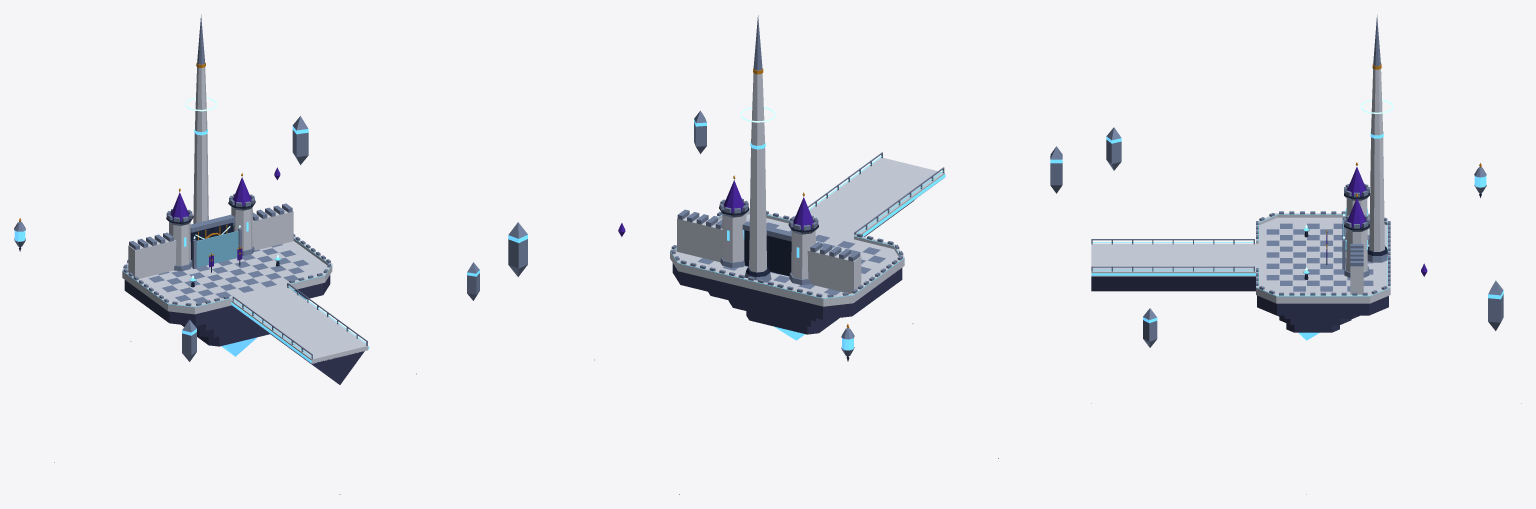
Rendered from chunk_cap_sealed_gate.fbx.
3 views of the same model, side by side, from view 1: azimuth 30°, elevation 25°; view 2: azimuth 150°, elevation 25°; view 3: azimuth 270°, elevation 25° (orthographic). The views are drawn at different scales.
Visible parts, largest first — view 1: chunk_cap_sealed_gate; view 2: chunk_cap_sealed_gate; view 3: chunk_cap_sealed_gate.
Part boxes in pixels (<box>): chunk_cap_sealed_gate: <box>14,14,479,494</box>; chunk_cap_sealed_gate: <box>508,15,1062,494</box>; chunk_cap_sealed_gate: <box>1091,15,1521,494</box>.
Bounding box in the file's own units: 256 × 256 × 256.
